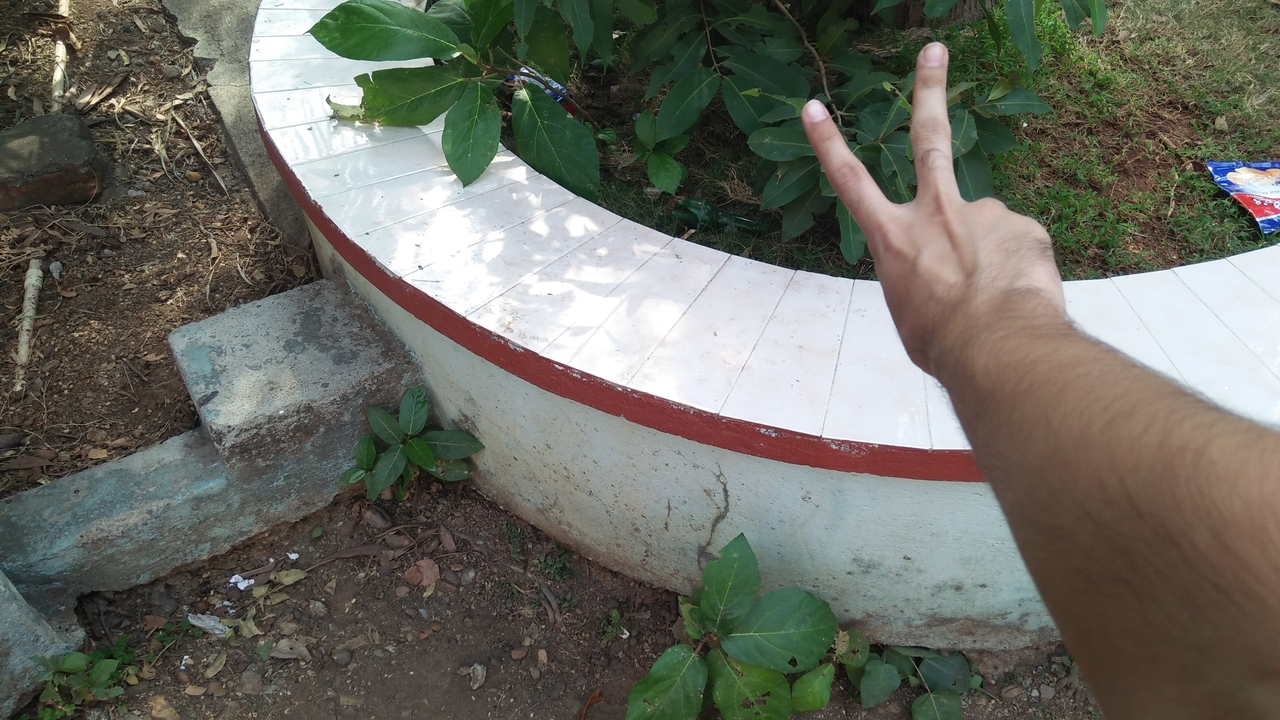fingertip: (794, 90, 842, 136), (916, 36, 956, 76)
